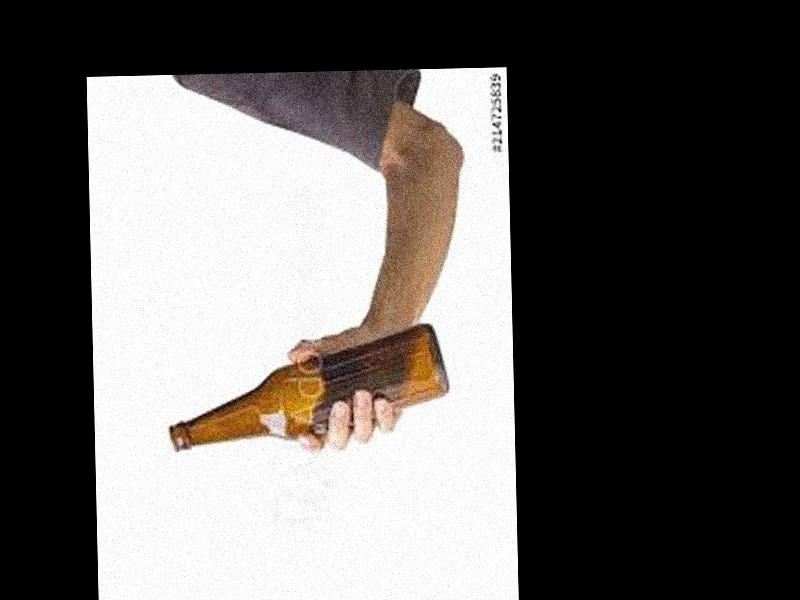Beer: (165, 322, 450, 454)
